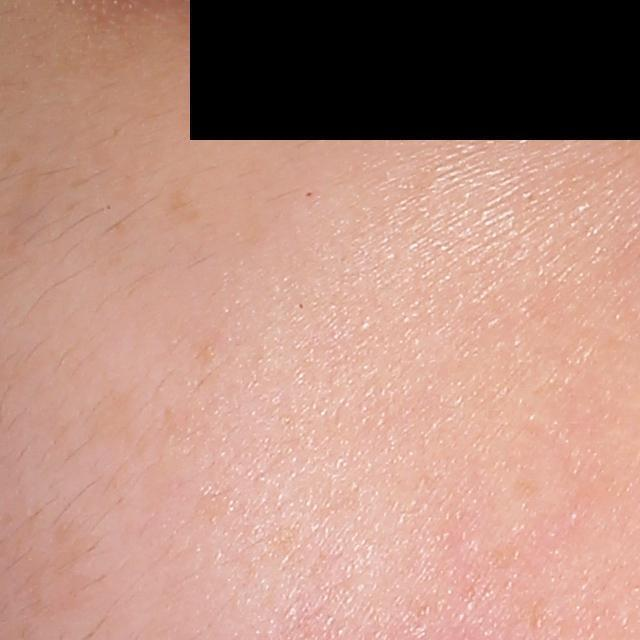melasma: (162, 182, 212, 227)
